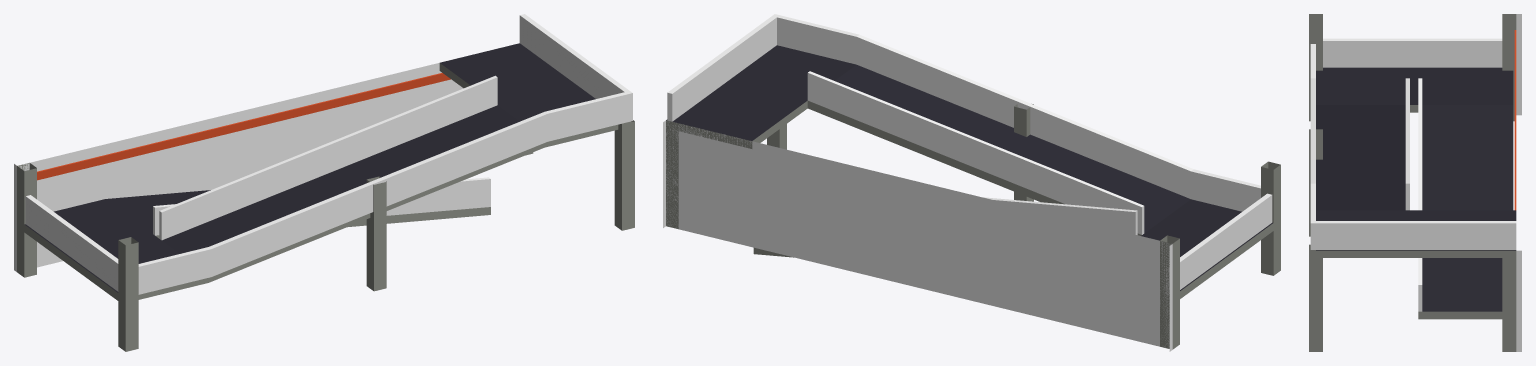
Rendered from mid-stair3.fbx.
3 renders of one model, left to right at view 1: azimuth 30°, elevation 25°; view 2: azimuth 150°, elevation 25°; view 3: azimuth 270°, elevation 25°, orthographic. The views are drawn at different scales.
Visible parts, largest first — view 1: a2008/0/mid-stair3; view 2: a2008/0/mid-stair3; view 3: a2008/0/mid-stair3.
Part boxes in pixels (x1=…): a2008/0/mid-stair3: x1=14, y1=14, x2=634, y2=351; a2008/0/mid-stair3: x1=663, y1=14, x2=1280, y2=351; a2008/0/mid-stair3: x1=1309, y1=14, x2=1521, y2=351.
Bounding box in the file's own units: 20 × 5.35 × 7.6.
